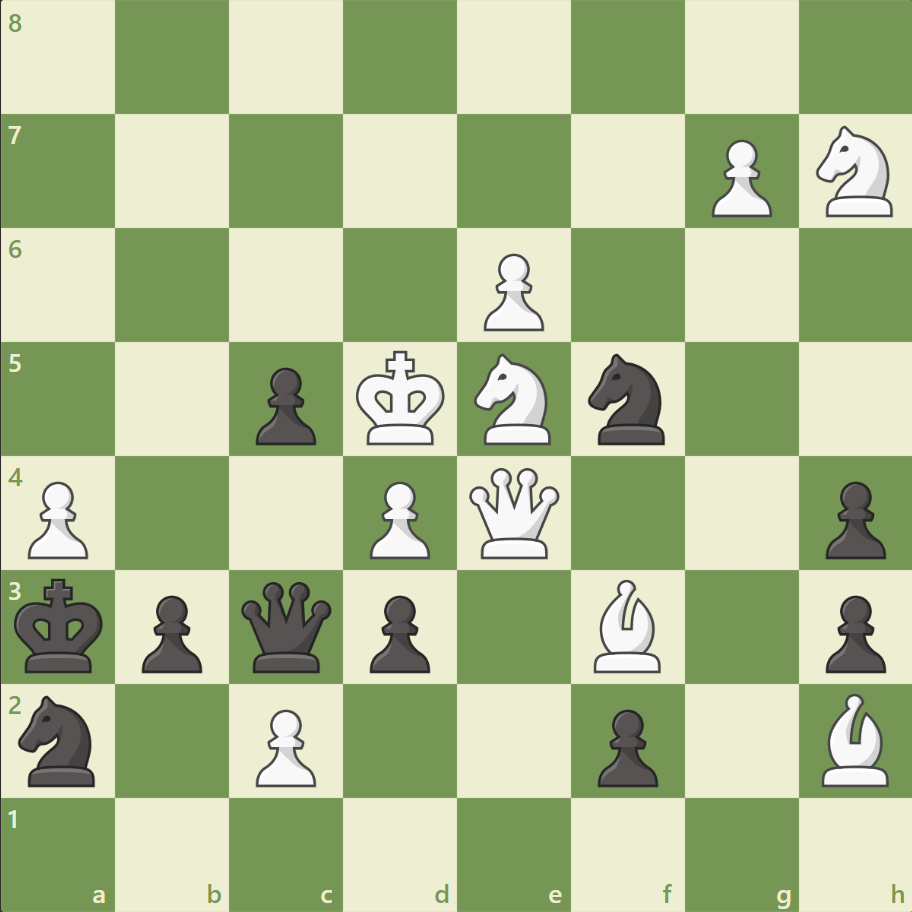B: (812, 687, 896, 790), (585, 574, 669, 676)
K: (351, 344, 451, 452)
N: (806, 121, 903, 223), (465, 348, 562, 450)
P: (701, 132, 776, 223), (474, 246, 549, 337), (20, 473, 95, 564), (247, 700, 322, 791), (361, 473, 435, 564)
Q: (464, 463, 563, 562)
k: (11, 571, 111, 679)
n: (11, 688, 108, 791), (579, 348, 676, 450)
p: (247, 359, 322, 450), (133, 586, 208, 677), (815, 473, 889, 564), (361, 586, 435, 677), (815, 586, 889, 677), (588, 700, 662, 791)
q: (237, 576, 336, 676)
